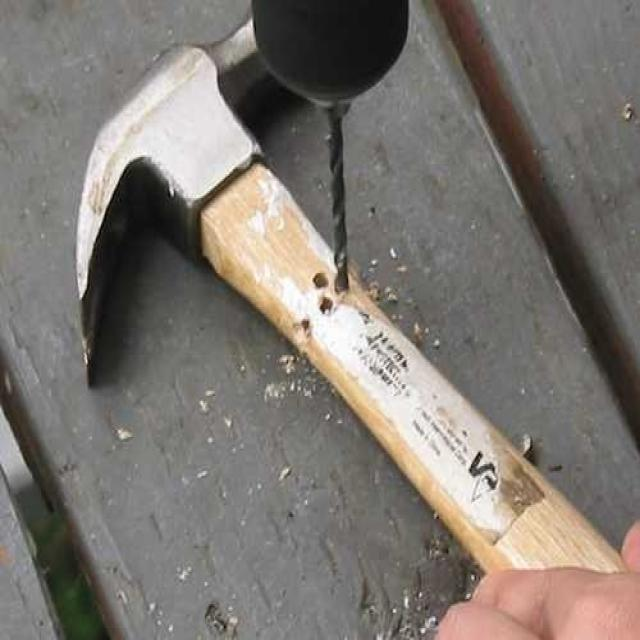hammer: (70, 7, 640, 630)
